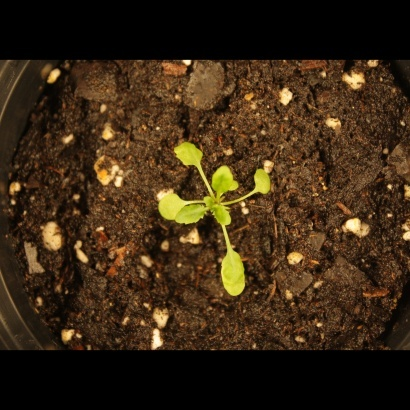leaf: (215, 244, 258, 300), (169, 139, 204, 173), (251, 162, 278, 205), (174, 198, 208, 230), (152, 190, 184, 221), (208, 167, 234, 201), (208, 202, 235, 233), (225, 177, 248, 200)
